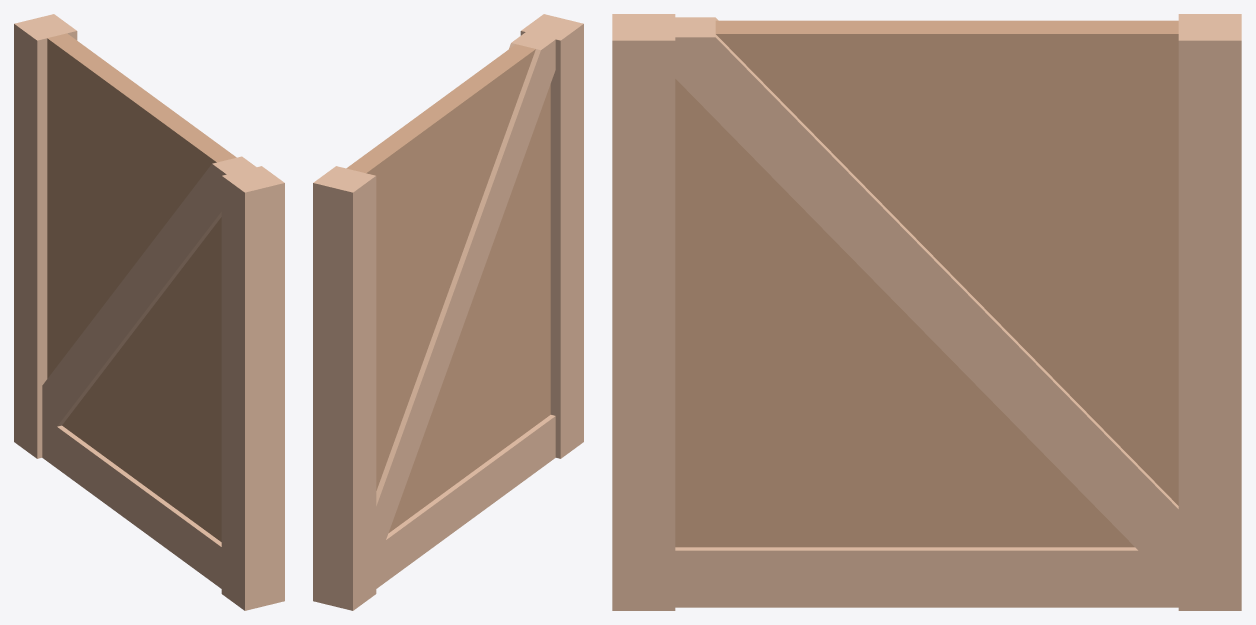
3 views of the same model, side by side, from view 1: azimuth 30°, elevation 25°; view 2: azimuth 150°, elevation 25°; view 3: azimuth 270°, elevation 25° (orthographic). The views are drawn at different scales.
Visible parts, largest first — view 1: wallWoodDetailDiagonal; view 2: wallWoodDetailDiagonal; view 3: wallWoodDetailDiagonal.
Part boxes in pixels (x1,y1,x2,y2): wallWoodDetailDiagonal: (14, 14, 284, 610); wallWoodDetailDiagonal: (313, 14, 583, 610); wallWoodDetailDiagonal: (612, 14, 1241, 610).
Size of the model in its own units: 0.1 by 1 by 1.
